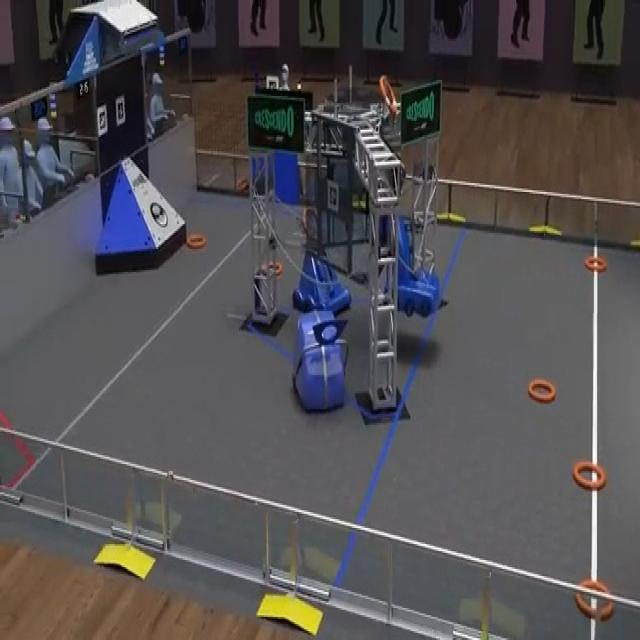notes: (576, 575, 614, 619), (574, 461, 610, 492), (526, 377, 557, 403), (584, 254, 608, 274), (187, 233, 206, 250), (268, 263, 282, 275)
